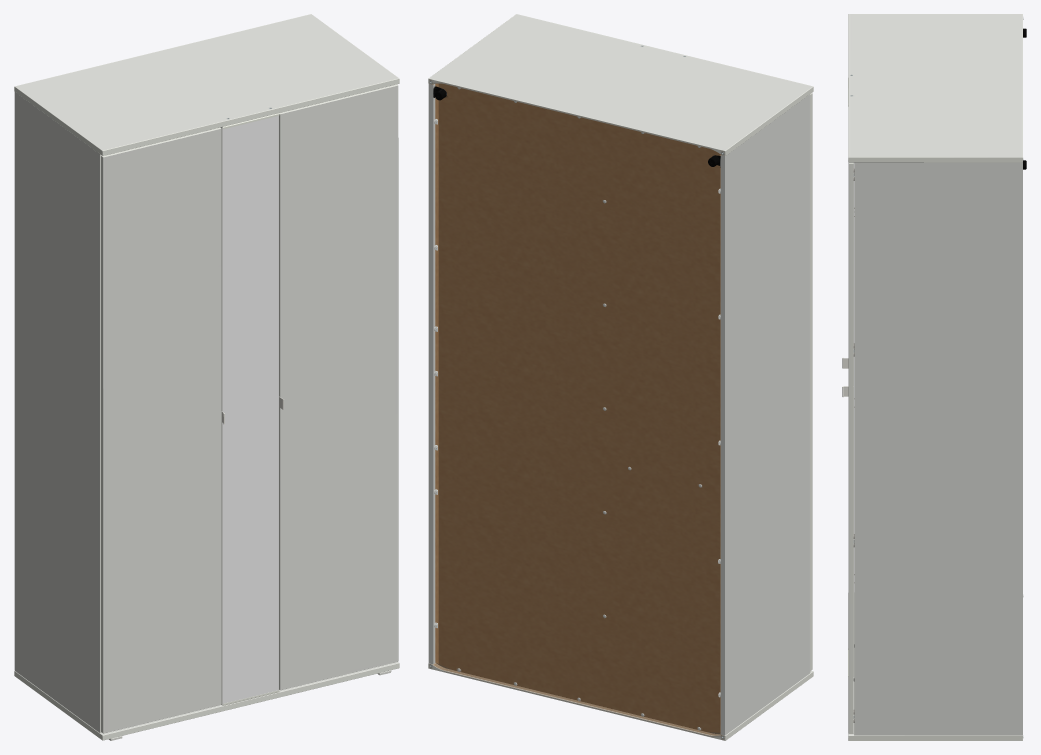
3 renders of one model, left to right at view 1: azimuth 30°, elevation 25°; view 2: azimuth 150°, elevation 25°; view 3: azimuth 270°, elevation 25°, orthographic.
Parts seen in each view (by area): view 1: world; view 2: world; view 3: world.
Boxes of the visible parts, x1,y1,x2,y2 form: world: (14, 14, 399, 740); world: (428, 14, 813, 740); world: (842, 14, 1026, 740).
Size of the model in its own units: 1.05 by 2 by 0.57.
Materials: 2 (1 with a texture image).
